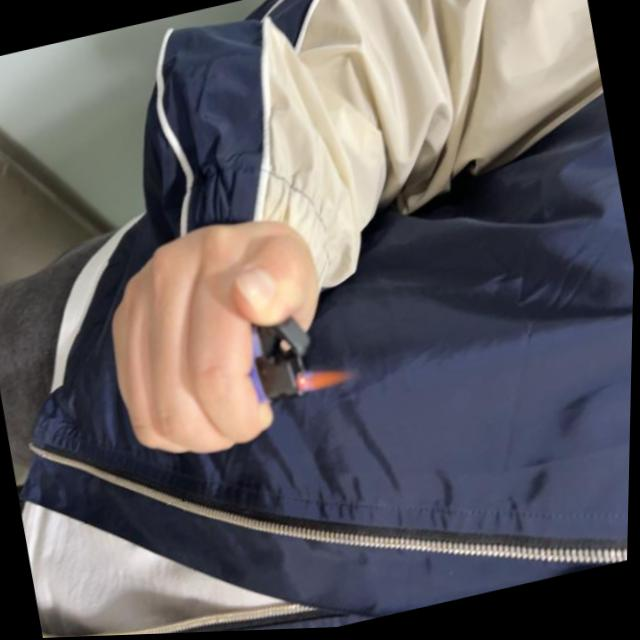Fire: (296, 363, 359, 398)
